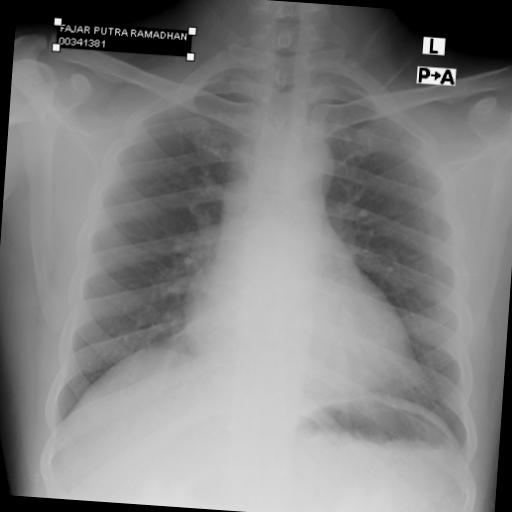kardiomegali: (46, 24, 500, 468)
